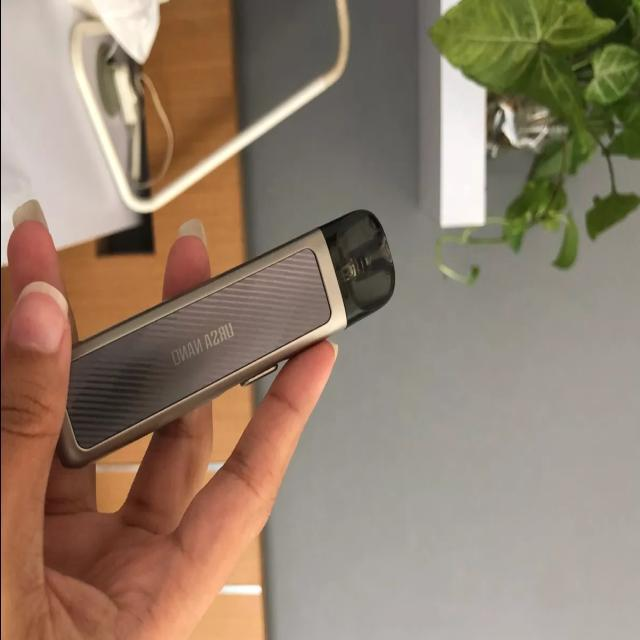Hazard: (53, 206, 399, 474)
